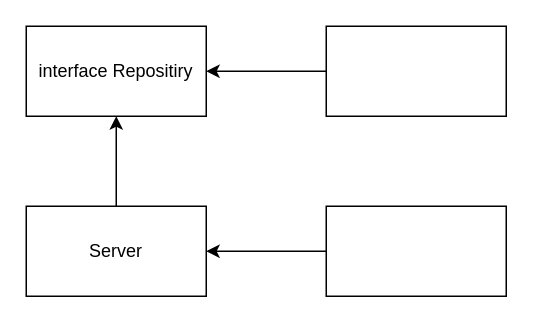
The diagram is 533 pixels wide and 323 high, and some of its shapes have lost their labels. The centre of each missing label's shape, as x and y in pixels:
"ServerGUI" belongs at (415,250).
"Storage" belongs at (415,70).
